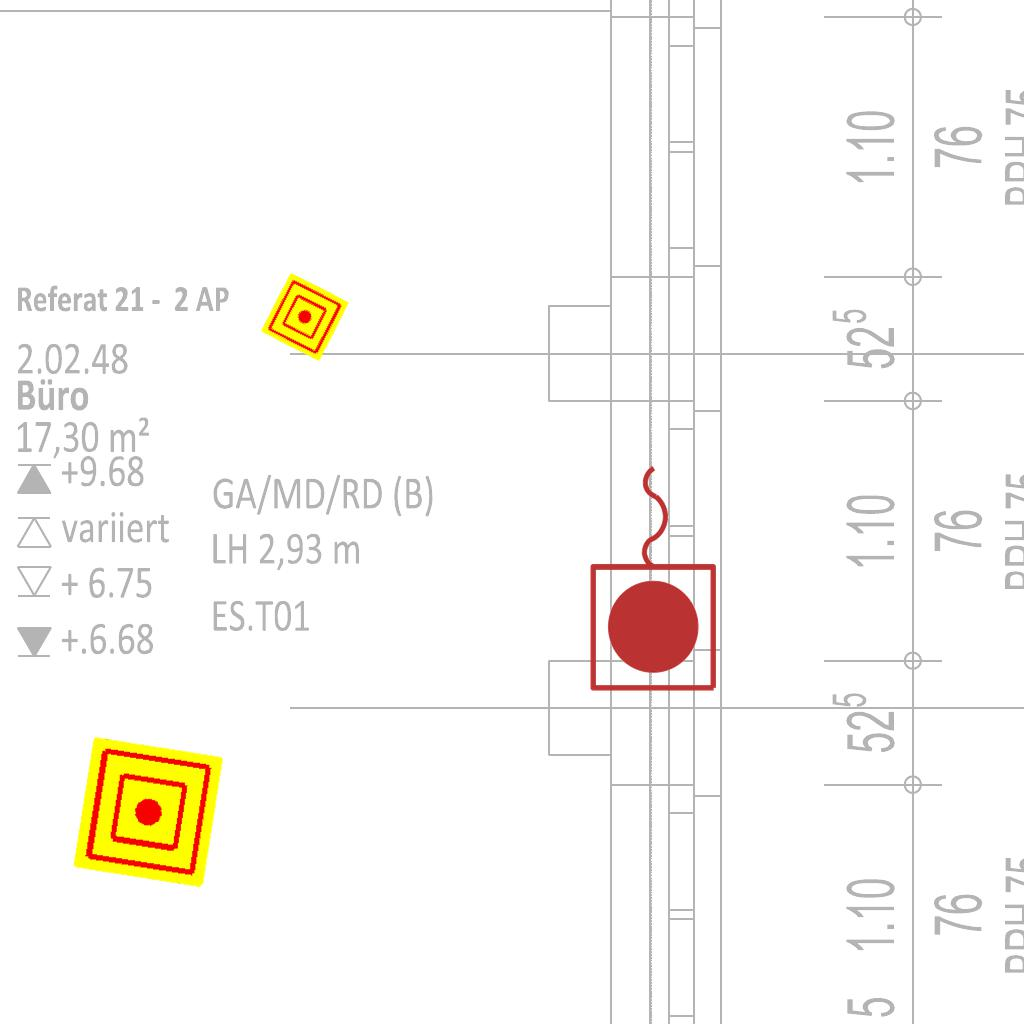NAM-Nichtautomatischer_Melder: (72, 736, 224, 888), (260, 272, 350, 362)
Zugtaster: (583, 455, 727, 699)
